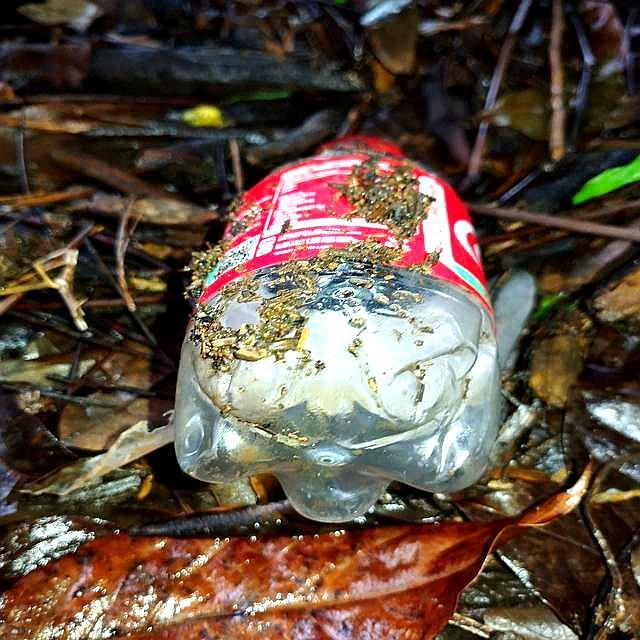Non-biodegradable: (173, 129, 503, 529)
